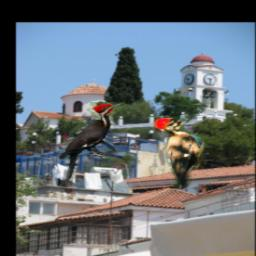Woodpecker: (58, 102, 124, 187), (153, 115, 205, 189)
